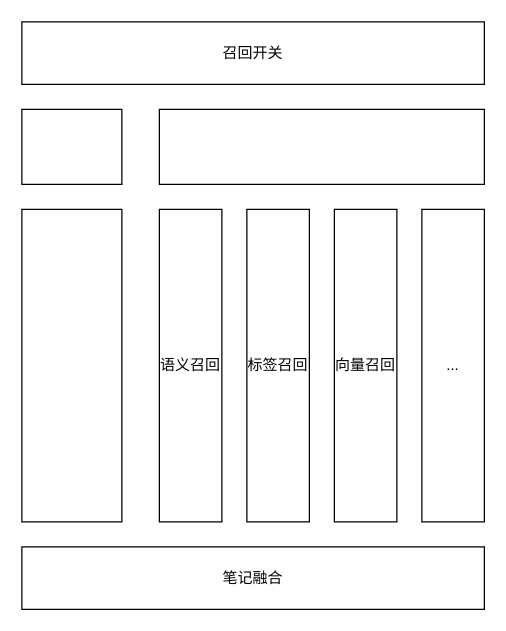
The diagram is 506 pixels wide and 631 high, and some of its shapes have lost their labels. Here are the shapes that lost their labels. From the top down, the box of each, then its label:
(21, 108, 122, 184): 主通道cache
(158, 108, 484, 184): 多通道cache
(21, 208, 122, 522): 主通道
